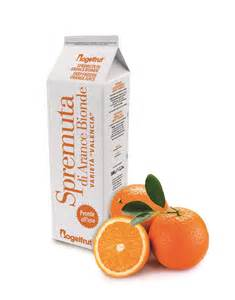orange: (148, 205, 210, 272), (109, 183, 168, 220)
